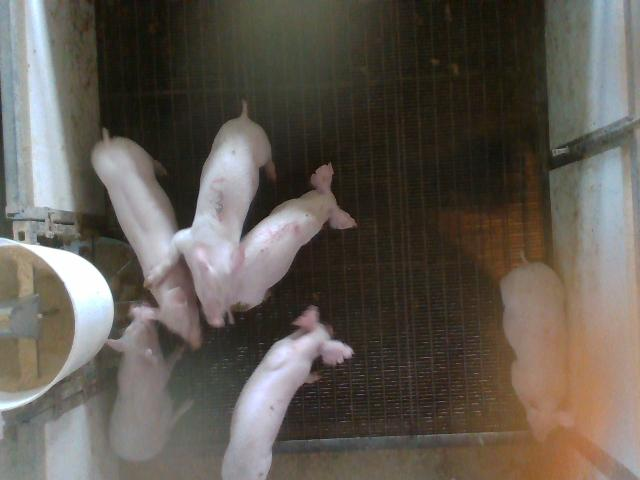pig-3: (172, 101, 275, 327)
pig-4: (500, 259, 572, 440)
pig-5: (231, 164, 356, 309)
